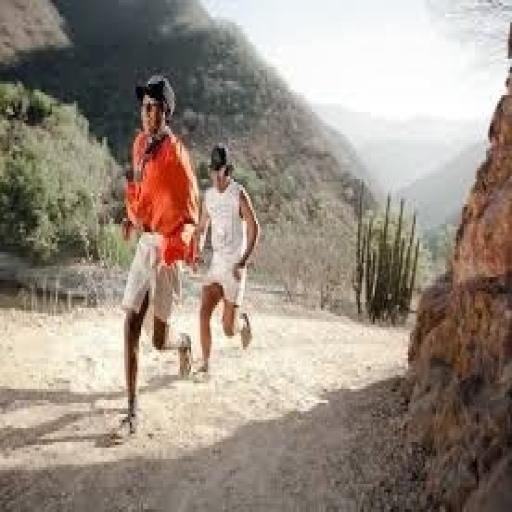running: (117, 70, 202, 434), (182, 140, 262, 378)
